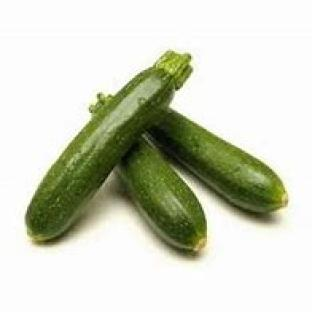Zucchini: (26, 51, 191, 240), (150, 110, 288, 213), (118, 134, 206, 251)
